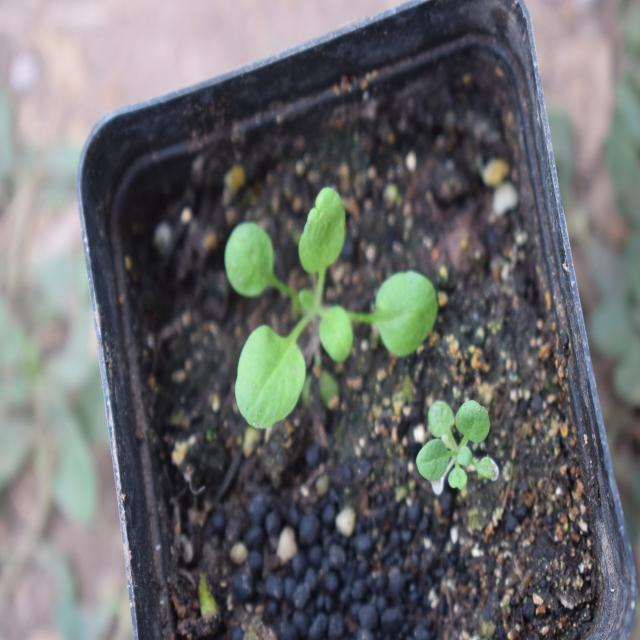Shepherd_Purse: (228, 189, 443, 436)
